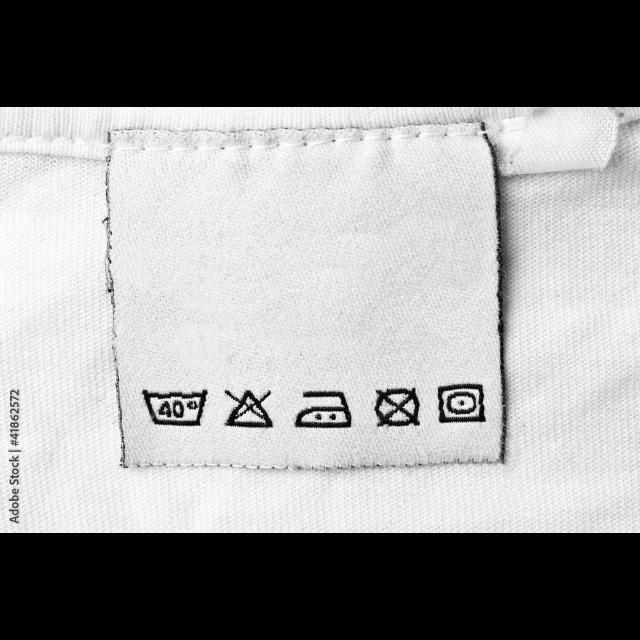40C: (136, 383, 210, 431)
DN_bleach: (220, 384, 278, 432)
DN_dry_clean: (370, 384, 422, 434)
iron_medium: (290, 385, 358, 433)
tumble_dry_low: (434, 379, 488, 427)
